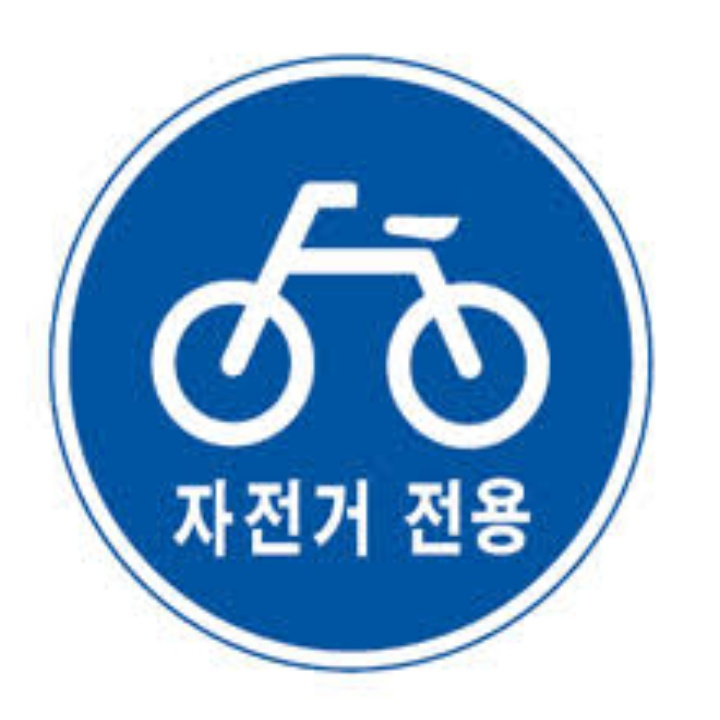bicycle: (147, 178, 556, 454)
